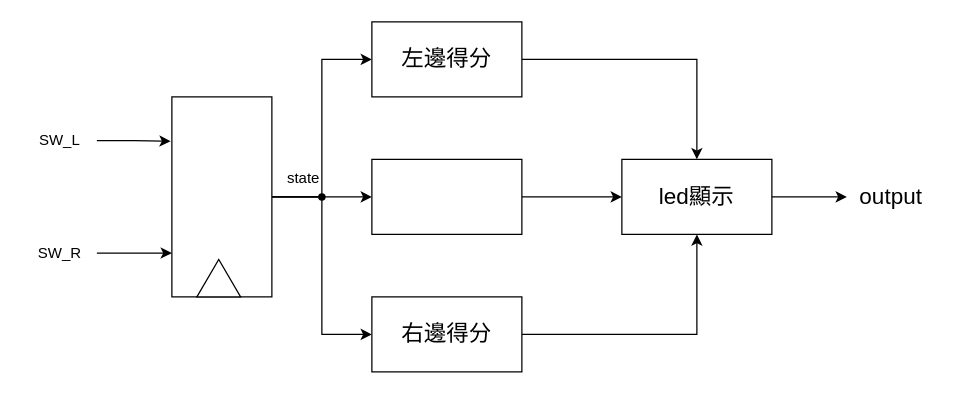
The diagram is 955 pixels wide and 394 high, and some of its shapes have lost their labels. Here are the shapes that lost their labels. From the top down, the box of each, then its label:
(171, 96, 272, 297): FSM
(371, 158, 522, 234): 移動
